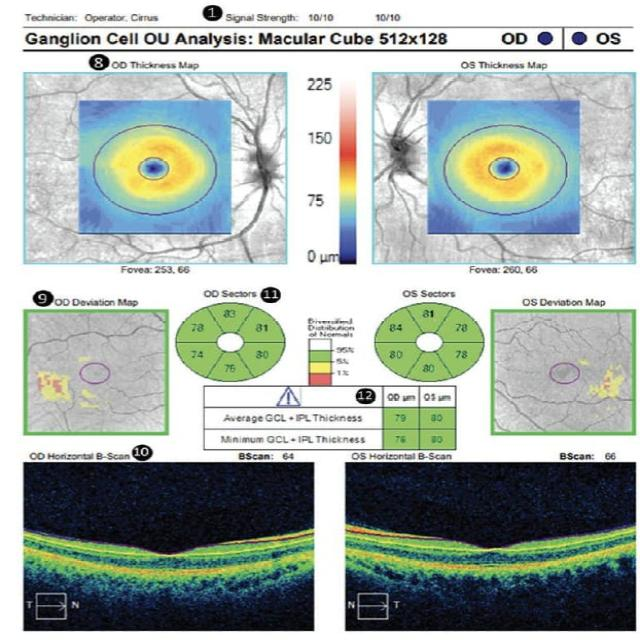average gcl and ipl thickness: (213, 409, 451, 426)
average gcl and ipl thickness-od: (389, 411, 414, 425)
average gcl and ipl thickness-os: (428, 410, 451, 425)
minimum gcl and ipl thickness: (211, 432, 449, 450)
minimum gcl and ipl thickness-od: (389, 433, 416, 448)
minimum gcl and ipl thickness-os: (427, 434, 448, 449)
